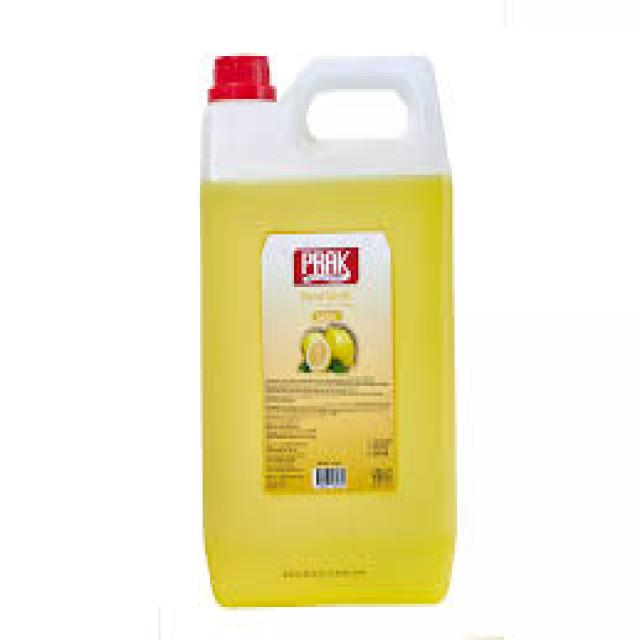liquid soap: (194, 42, 461, 624)
